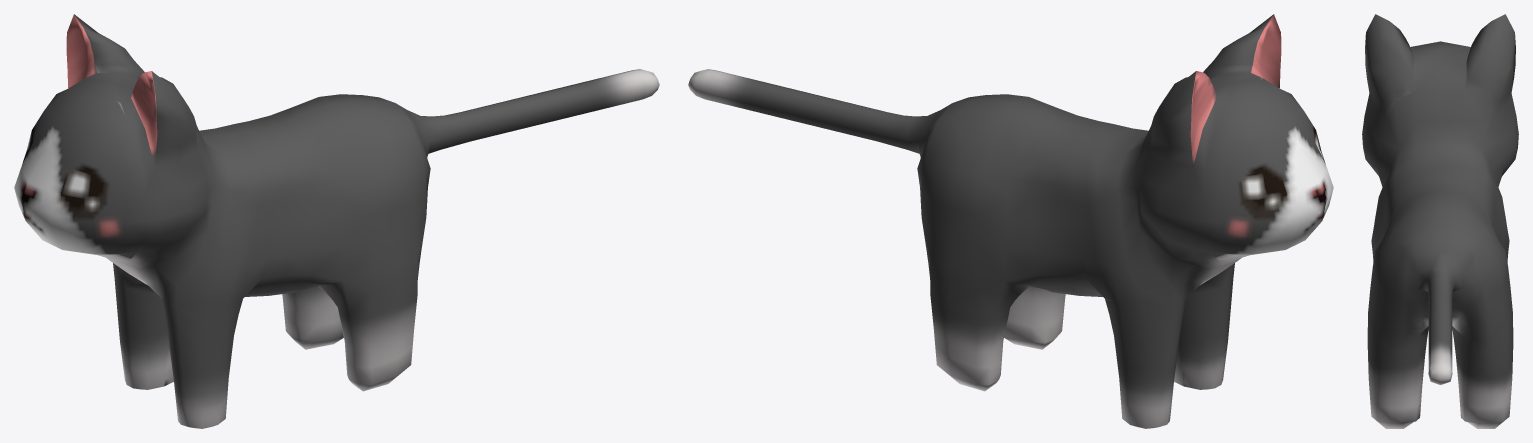
Rendered from Character_Cat.fbx.
3 views of the same model, side by side, from view 1: azimuth 30°, elevation 25°; view 2: azimuth 150°, elevation 25°; view 3: azimuth 270°, elevation 25° (orthographic). The views are drawn at different scales.
Visible parts, largest first — view 1: pCube45; view 2: pCube45; view 3: pCube45.
Boxes of the visible parts, x1,y1,x2,y2 form: pCube45: [14, 14, 659, 428]; pCube45: [688, 14, 1333, 428]; pCube45: [1362, 14, 1518, 428].
Bounding box in the file's own units: 23.52 × 13.36 × 6.01.
